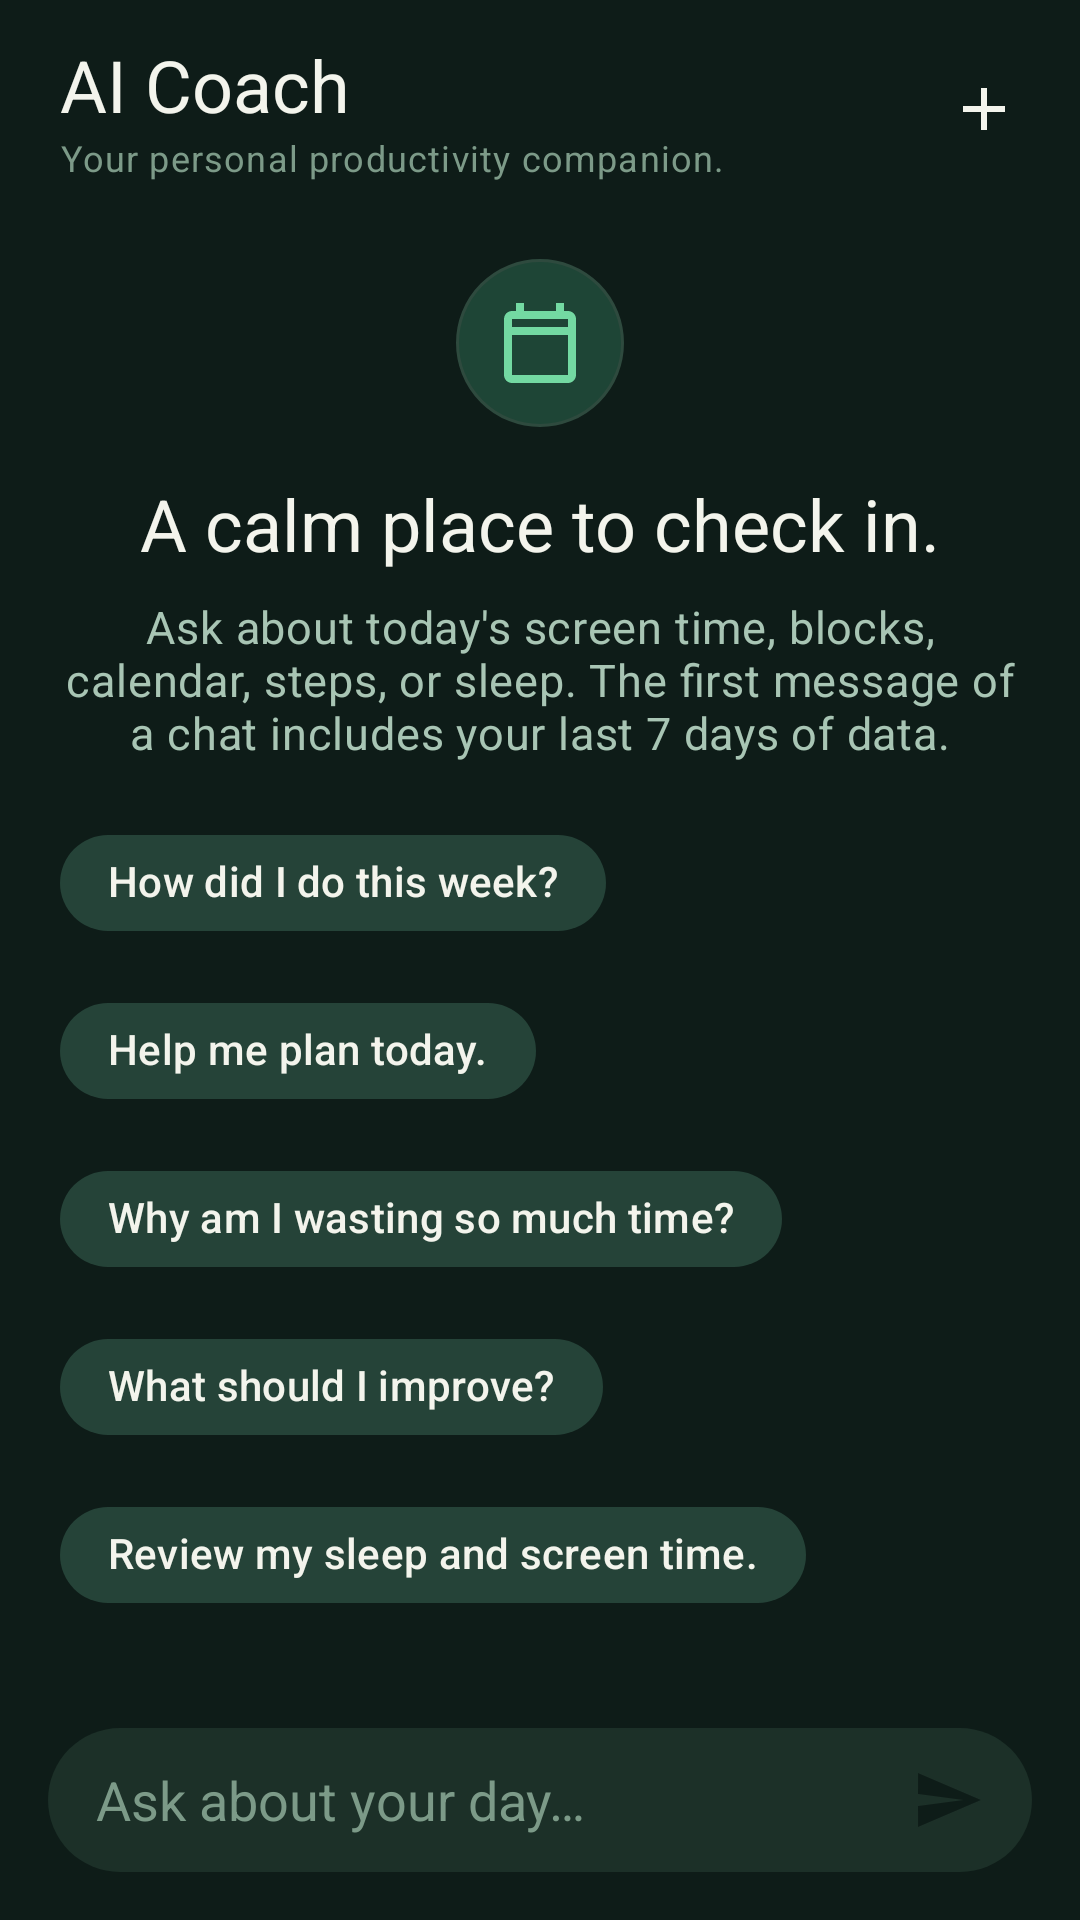

Icons on this 1080 × 1920 Android screen, each with the point to tap as point (x, y):
New chat: point (984, 109)
